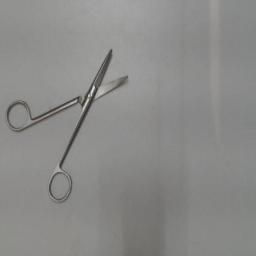Curved Mayo Scissors: (2, 38, 134, 208)
